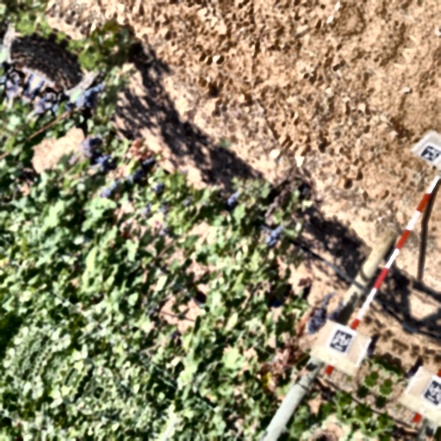QR: (326, 326, 356, 357), (418, 142, 441, 167)
